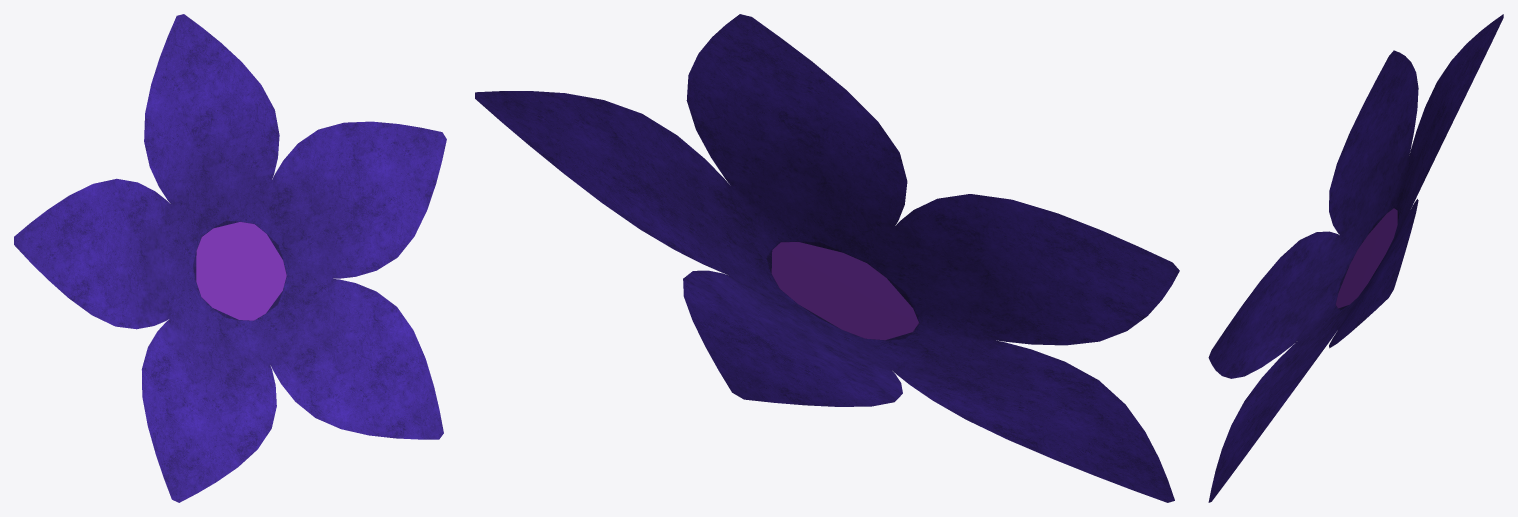
File: Flower.fbx
3 renders of one model, left to right at view 1: azimuth 30°, elevation 25°; view 2: azimuth 150°, elevation 25°; view 3: azimuth 270°, elevation 25°, orthographic. The views are drawn at different scales.
Parts seen in each view (by area): view 1: Circle.005; view 2: Circle.005; view 3: Circle.005.
Boxes of the visible parts, left/top/right/bottom form: Circle.005: left=14, top=14, right=446, bottom=502; Circle.005: left=475, top=14, right=1179, bottom=502; Circle.005: left=1208, top=14, right=1503, bottom=502.
Size of the model in its own units: 33.27 by 26.59 by 17.16.
1 material, 1 textured.
